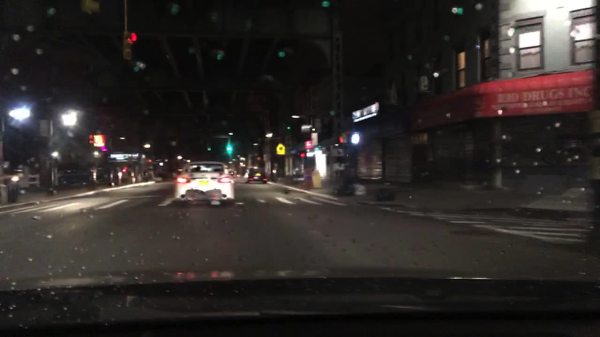car: (172, 162, 235, 205), (247, 168, 267, 184)
traffic light: (123, 32, 137, 61), (337, 133, 361, 146), (225, 142, 233, 155), (299, 151, 308, 160), (206, 142, 212, 151), (287, 122, 291, 132)
traffic sign: (39, 120, 53, 137), (276, 143, 286, 155)
